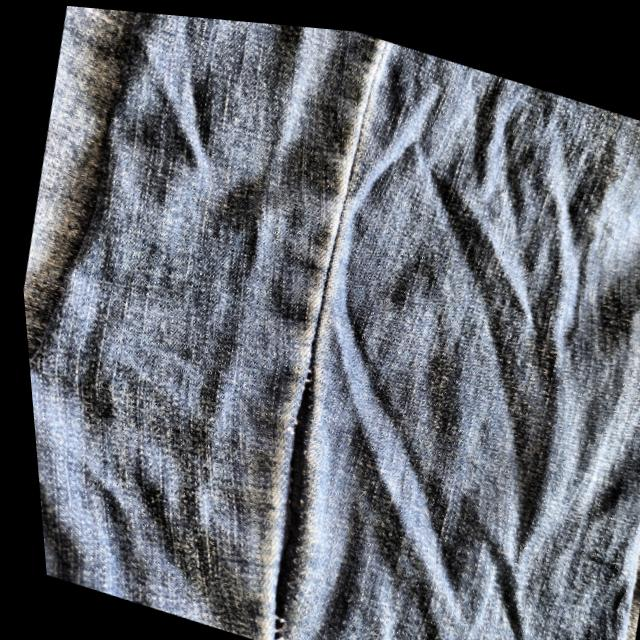seam: (212, 356, 357, 640)
